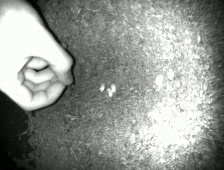corn: (152, 72, 167, 87), (104, 86, 115, 98), (97, 80, 107, 93), (108, 82, 118, 94)
